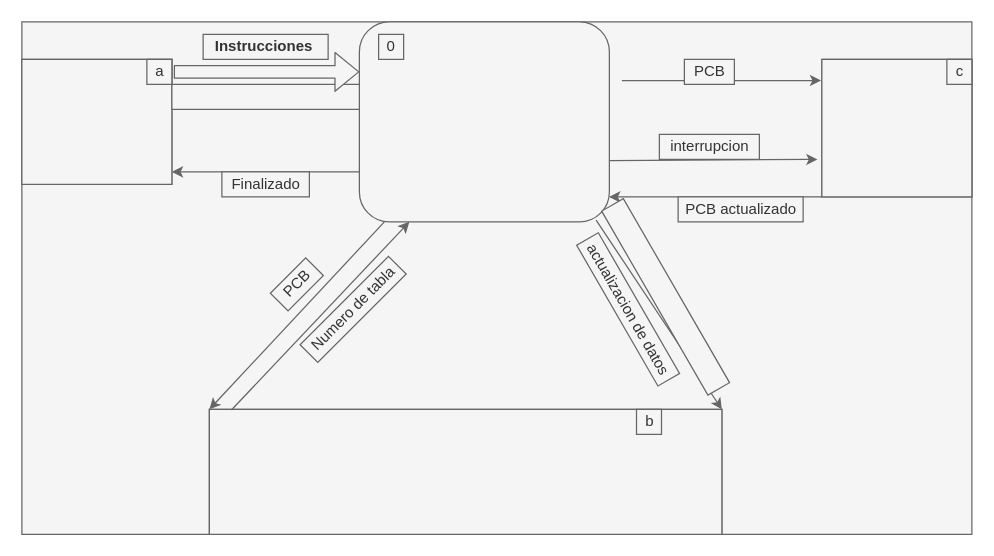
This 994x556 diagram has some shape labels left out. Here are the shapes that lost their labels. From the top down, the box of each, then its label:
(171, 83, 359, 109): Tamano espacio direccion
(21, 58, 172, 184): Consolas
(358, 21, 609, 222): Kernel
(821, 58, 972, 197): CPU
(600, 197, 730, 395): Aviso finalizacion/suspension
(208, 408, 722, 534): Memoria
